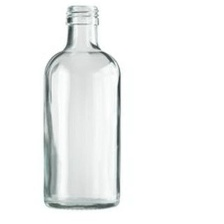bottle: (39, 2, 133, 213)
